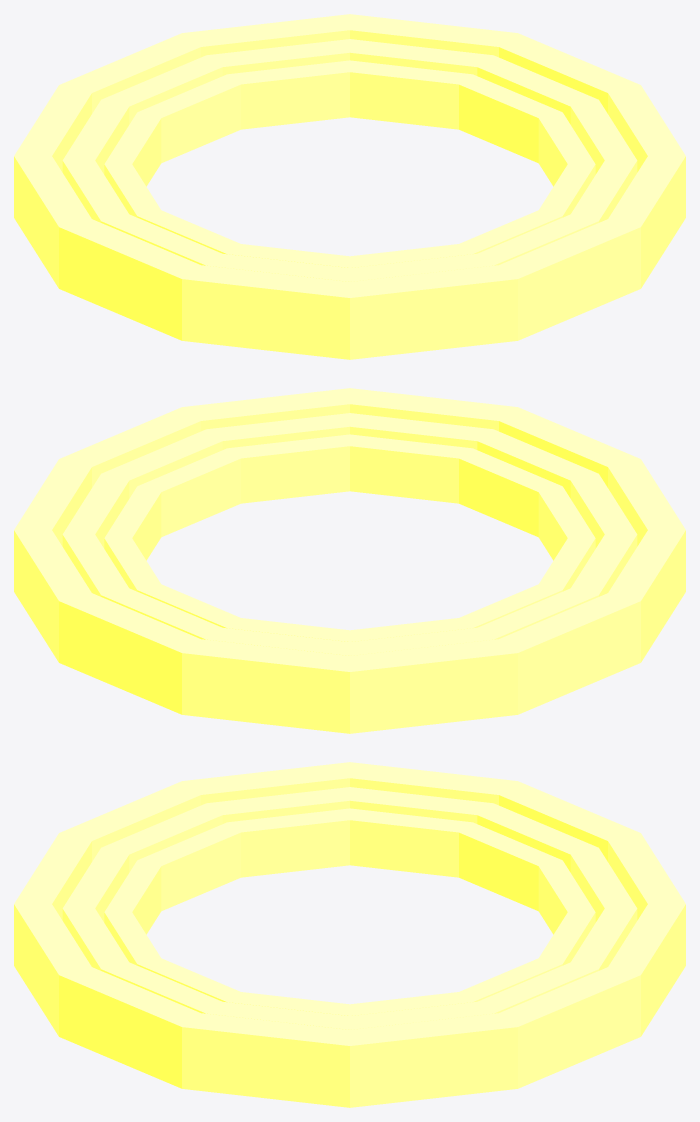
Rendered from boosterNAnim.fbx.
3 renders of one model, top to bottom at view 1: azimuth 30°, elevation 25°; view 2: azimuth 150°, elevation 25°; view 3: azimuth 270°, elevation 25°, orthographic.
Parts seen in each view (by area): view 1: Outer, Inner, Middle; view 2: Outer, Inner, Middle; view 3: Outer, Inner, Middle.
Boxes of the visible parts, x1,y1,x2,y2 form: Outer: [14, 14, 685, 359]; Inner: [104, 60, 595, 267]; Middle: [62, 39, 637, 281]; Outer: [14, 388, 685, 733]; Inner: [104, 434, 595, 641]; Middle: [62, 413, 637, 655]; Outer: [14, 762, 685, 1107]; Inner: [104, 808, 595, 1015]; Middle: [62, 787, 637, 1029].
Bounding box in the file's own units: 46.77 × 4.75 × 46.77.
